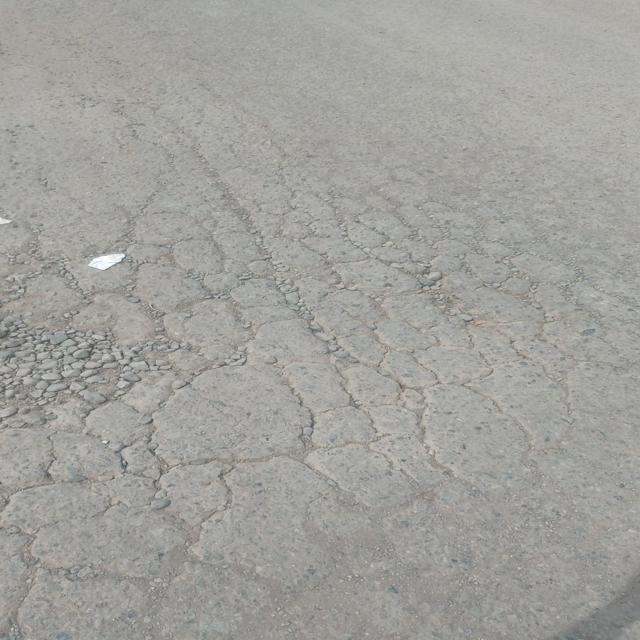Retak Buaya: (0, 156, 639, 574)
